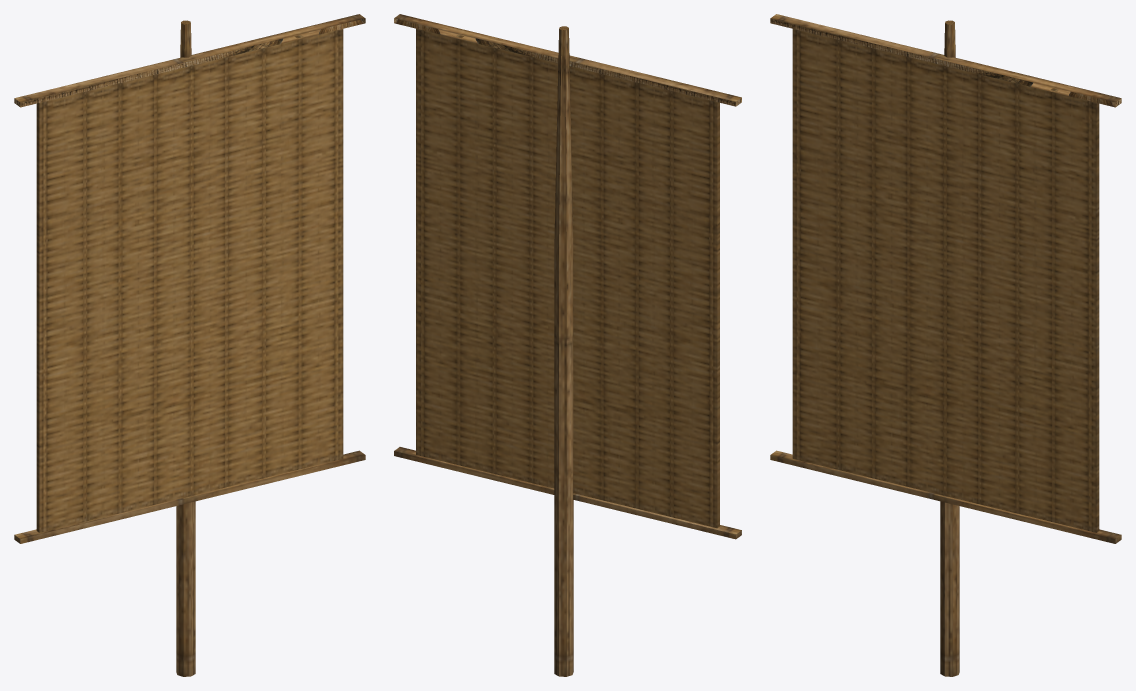
Rendered from sail_ship_01.dae.
3 views of the same model, side by side, from view 1: azimuth 30°, elevation 25°; view 2: azimuth 150°, elevation 25°; view 3: azimuth 330°, elevation 25° (orthographic).
Parts seen in each view (by area): view 1: sail_ship_01; view 2: sail_ship_01; view 3: sail_ship_01.
Boxes of the visible parts, left/top/right/bottom form: sail_ship_01: left=14, top=14, right=365, bottom=676; sail_ship_01: left=394, top=14, right=741, bottom=676; sail_ship_01: left=770, top=14, right=1121, bottom=676.
Size of the model in its own units: 5.28 by 0.3191 by 9.5.
